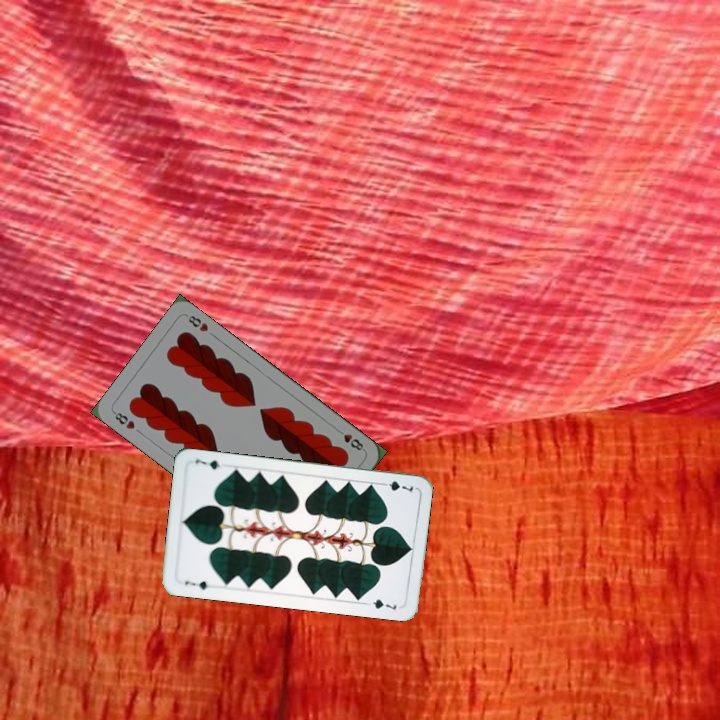G7: (376, 477, 415, 495), (180, 577, 211, 592)
H8: (332, 425, 367, 454), (109, 408, 137, 432)
